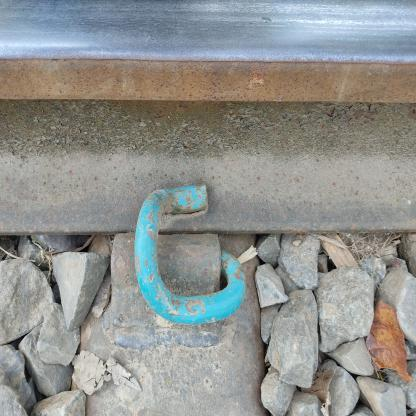Non Defective: (141, 64, 329, 299)
